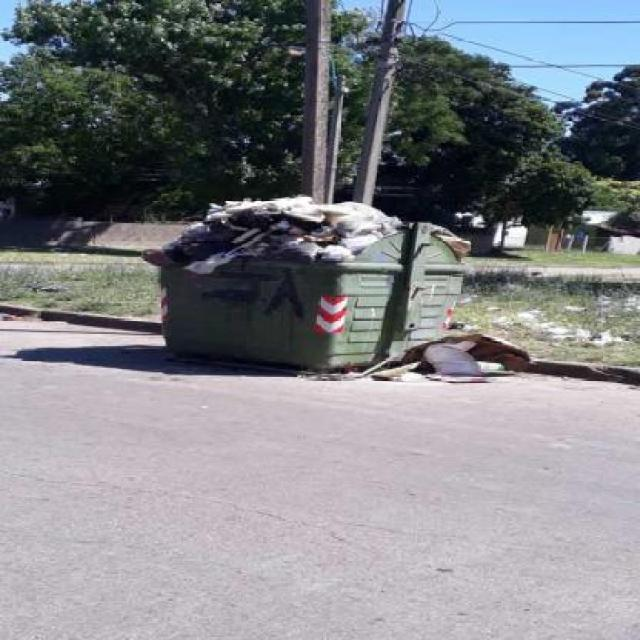garbage: (155, 188, 376, 285)
